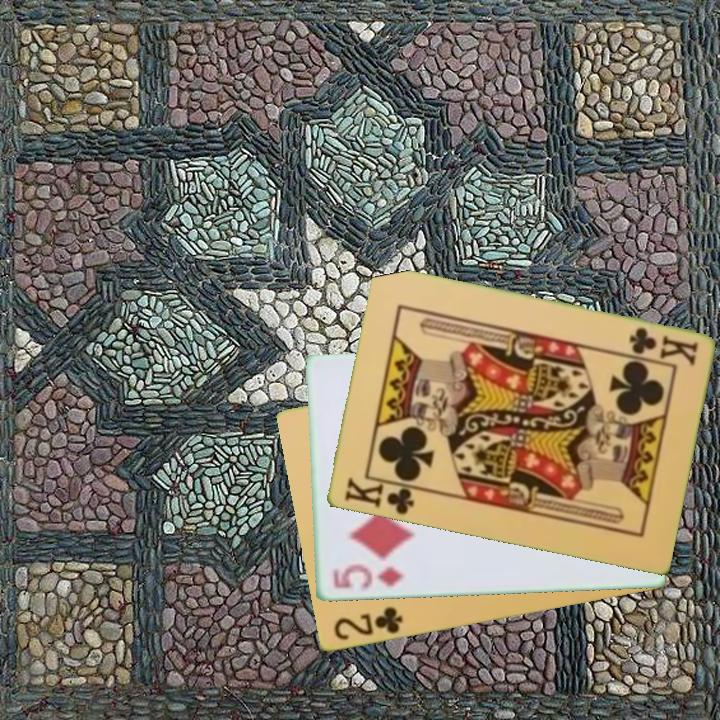2c: (330, 604, 405, 644)
5d: (329, 562, 407, 592)
Kc: (341, 474, 423, 518), (624, 324, 701, 368)
